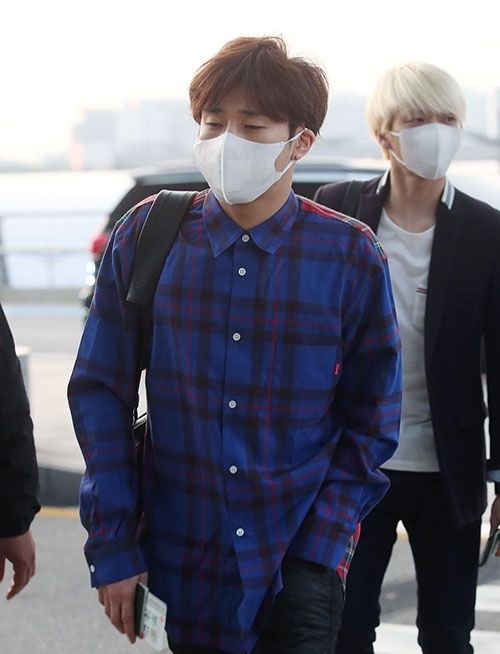face_mask: (196, 72, 289, 208), (391, 89, 460, 180)
